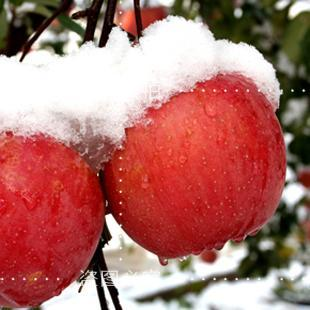apple: (102, 53, 284, 258), (1, 130, 104, 307)
